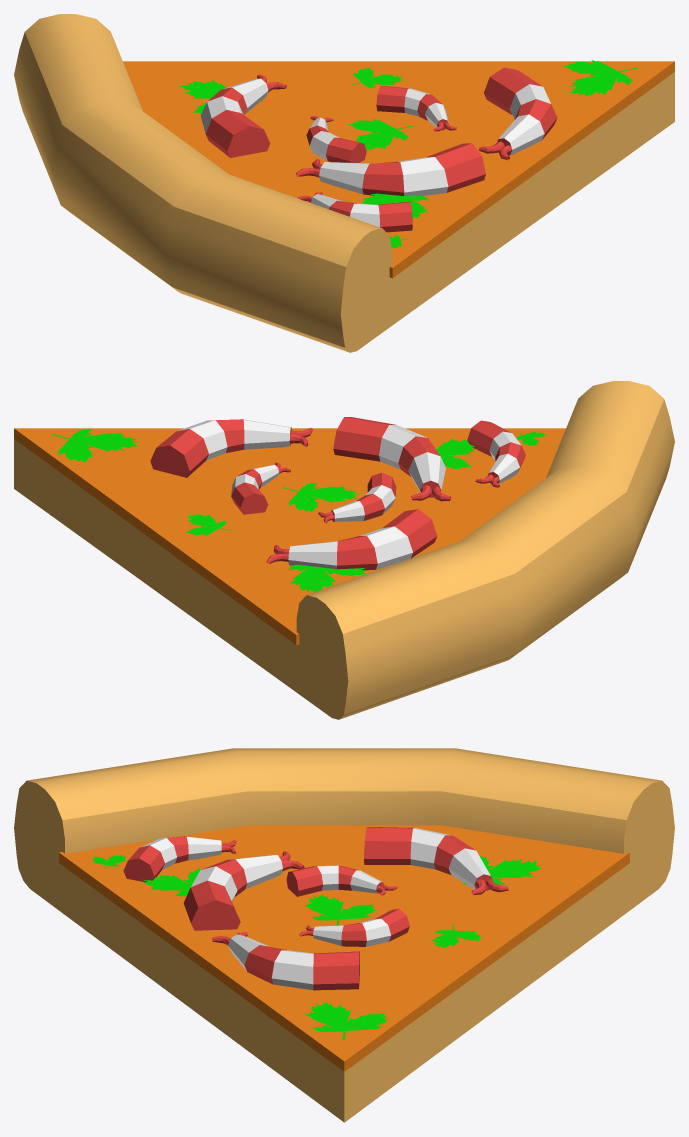
File: Pizza 4.fbx
3 renders of one model, top to bottom at view 1: azimuth 30°, elevation 25°; view 2: azimuth 150°, elevation 25°; view 3: azimuth 270°, elevation 25°, orthographic.
Parts seen in each view (by area): view 1: Pizza 4; view 2: Pizza 4; view 3: Pizza 4.
Boxes of the visible parts, x1=… form: Pizza 4: x1=14, y1=14, x2=674, y2=352; Pizza 4: x1=14, y1=381, x2=674, y2=719; Pizza 4: x1=14, y1=748, x2=674, y2=1122.
Size of the model in its own units: 1.71 by 1.71 by 0.3167.
